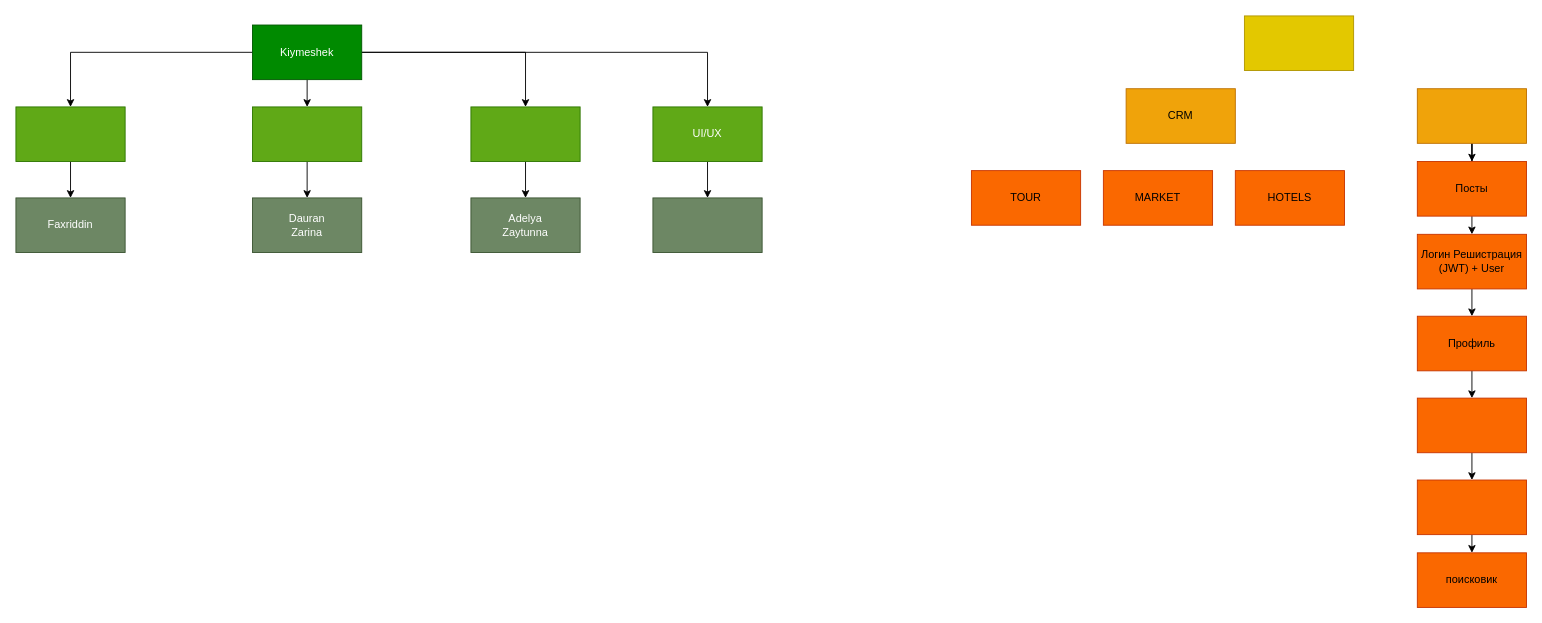
The diagram is 1542 pixels wide and 623 high, and some of its shapes have lost their labels. The shapes that lost their labels are listed below. From the top down, each one's centre as x and y in pixels, then its label:
At pixel 70 134: "Front".
At pixel 307 134: "Backend".
At pixel 525 134: "Data".
At pixel 1471 115: "ARCHIVE".
At pixel 707 225: "Guli".
At pixel 1471 425: "Комментарии".
At pixel 1471 507: "Форум".
